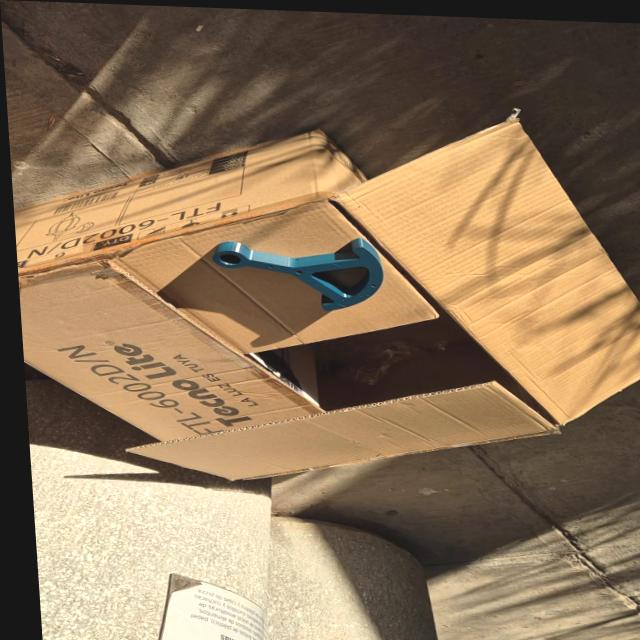haptic: (210, 232, 388, 314)
